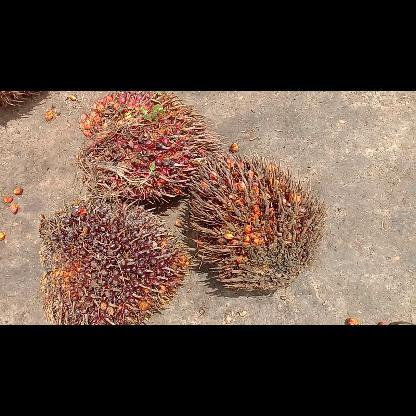Kurang masak: (38, 206, 186, 324)
TBS masak: (78, 90, 216, 208)
Terlalu masak: (184, 154, 326, 294)
